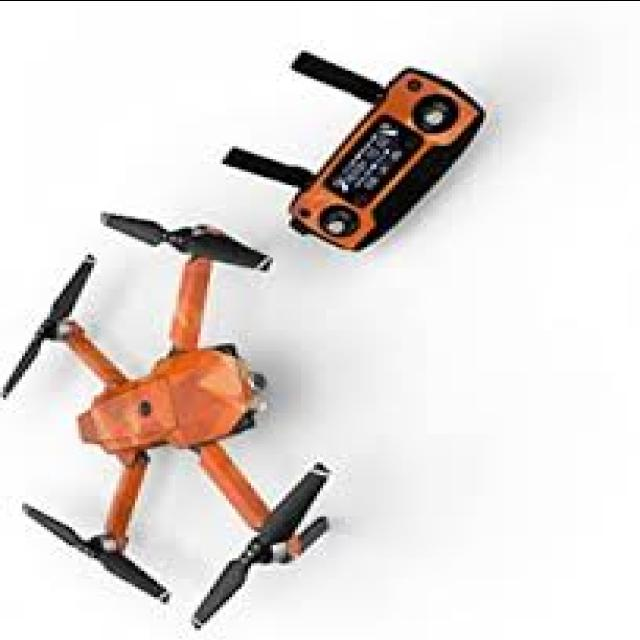drone: (0, 204, 380, 640)
